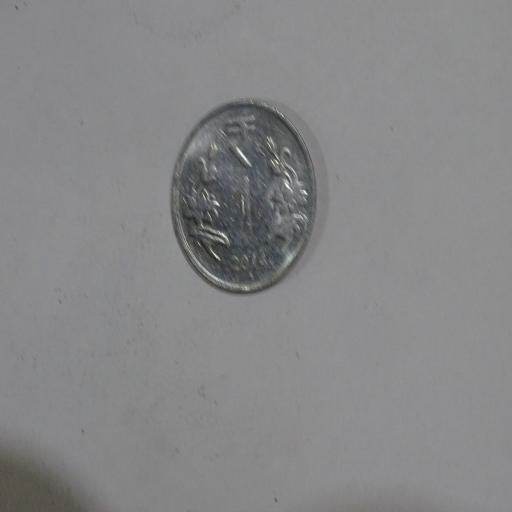rupee1: (168, 98, 319, 294)
